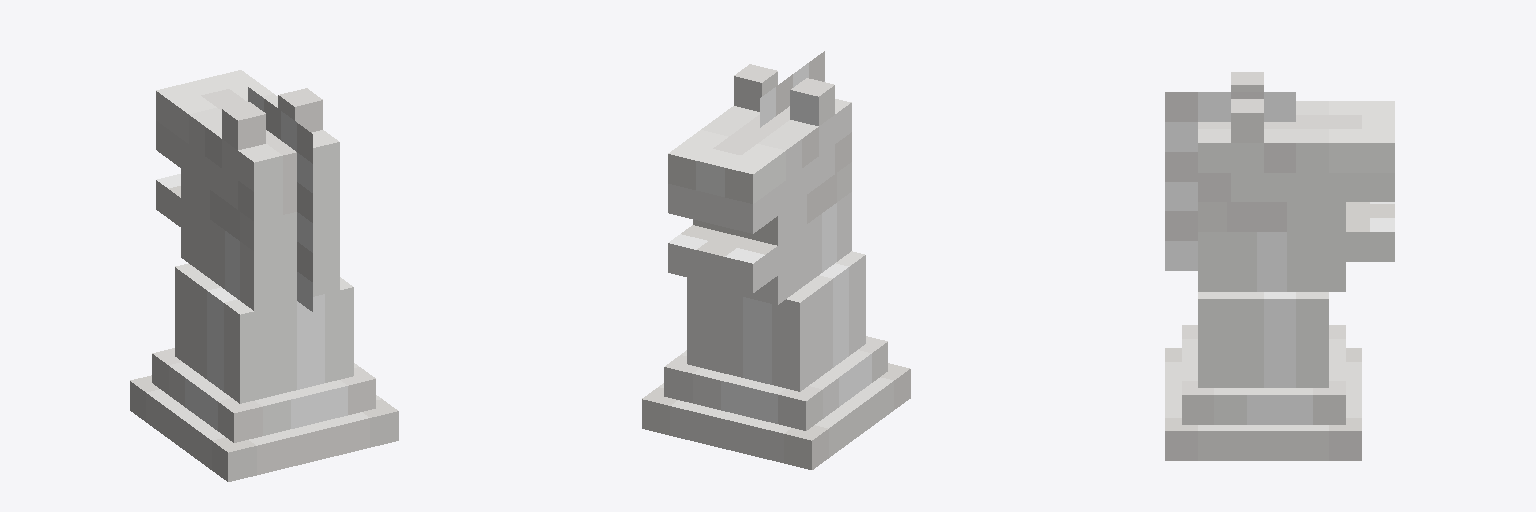
3 renders of one model, left to right at view 1: azimuth 30°, elevation 25°; view 2: azimuth 150°, elevation 25°; view 3: azimuth 270°, elevation 25°, orthographic.
Parts seen in each view (by area): view 1: cube; view 2: cube; view 3: cube.
Part boxes in pixels (x1,y1,x2,y2): cube: (130,70,398,481); cube: (642,51,910,469); cube: (1165,72,1394,460).
Bounding box in the file's own units: 0.375 × 0.6875 × 0.4375.
1 materials, 1 textured.